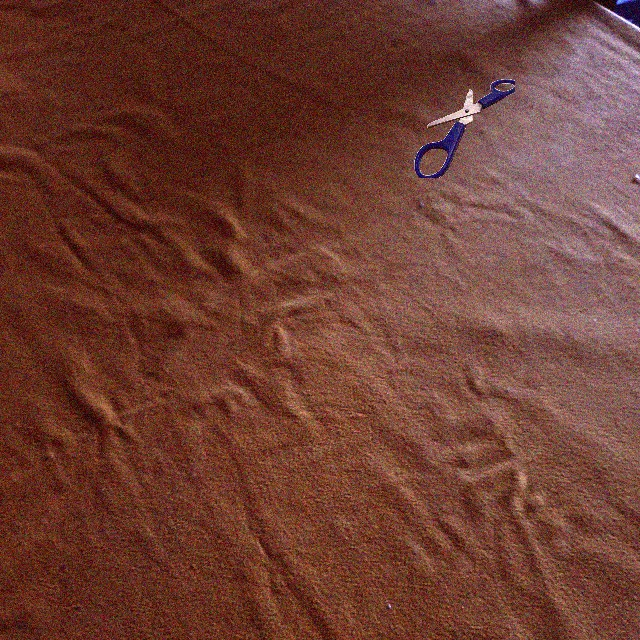scissors: (414, 79, 515, 178)
